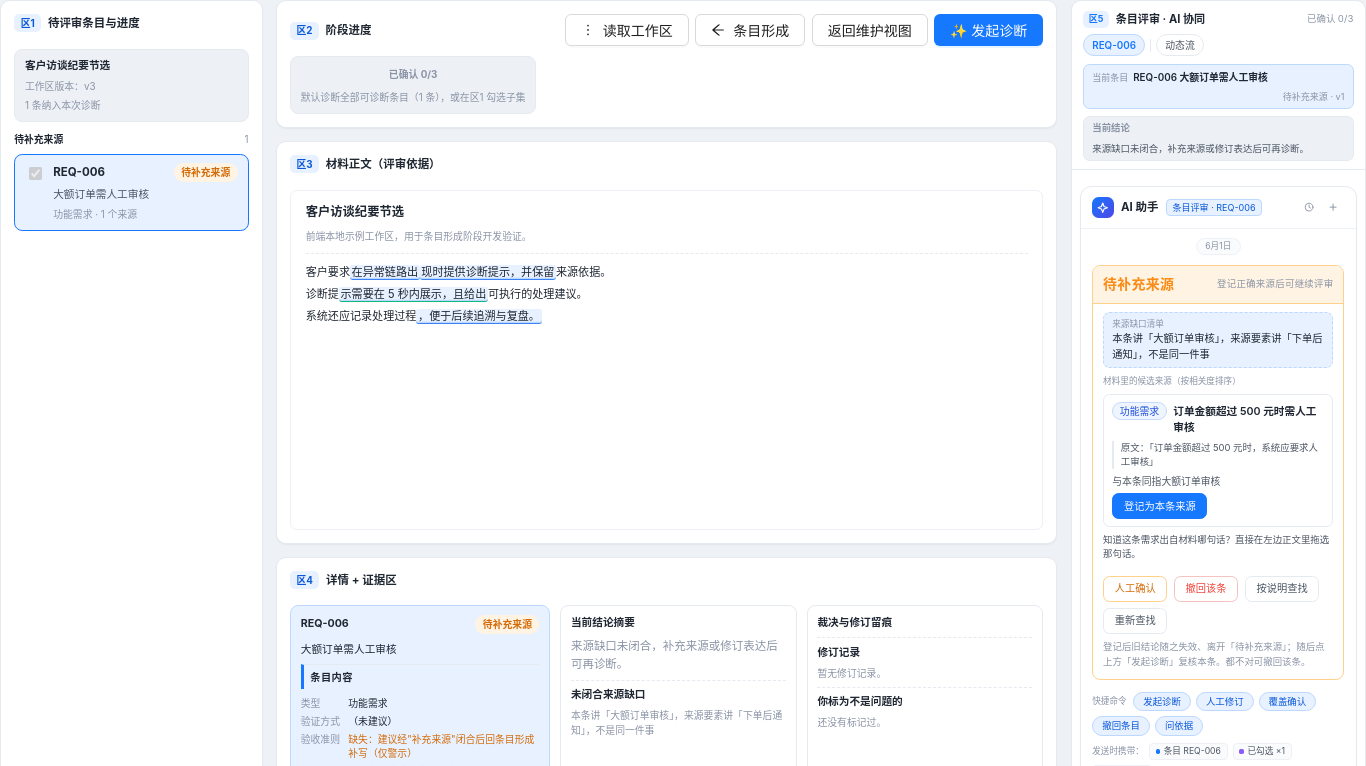
Test case: 补充来源出口卡（issue #30；ADR-0002 P1 无死胡同 / P3 说缺必说补） › 登记候选遇后端前置检查失败（status!=applied，如版本不一致）：如实报失败、不谎报成功（C8）
The image size is (1366, 766).
Click the button "登记为本条来源" at (1160, 506), box x1=1112 y1=493 x2=1207 y2=519
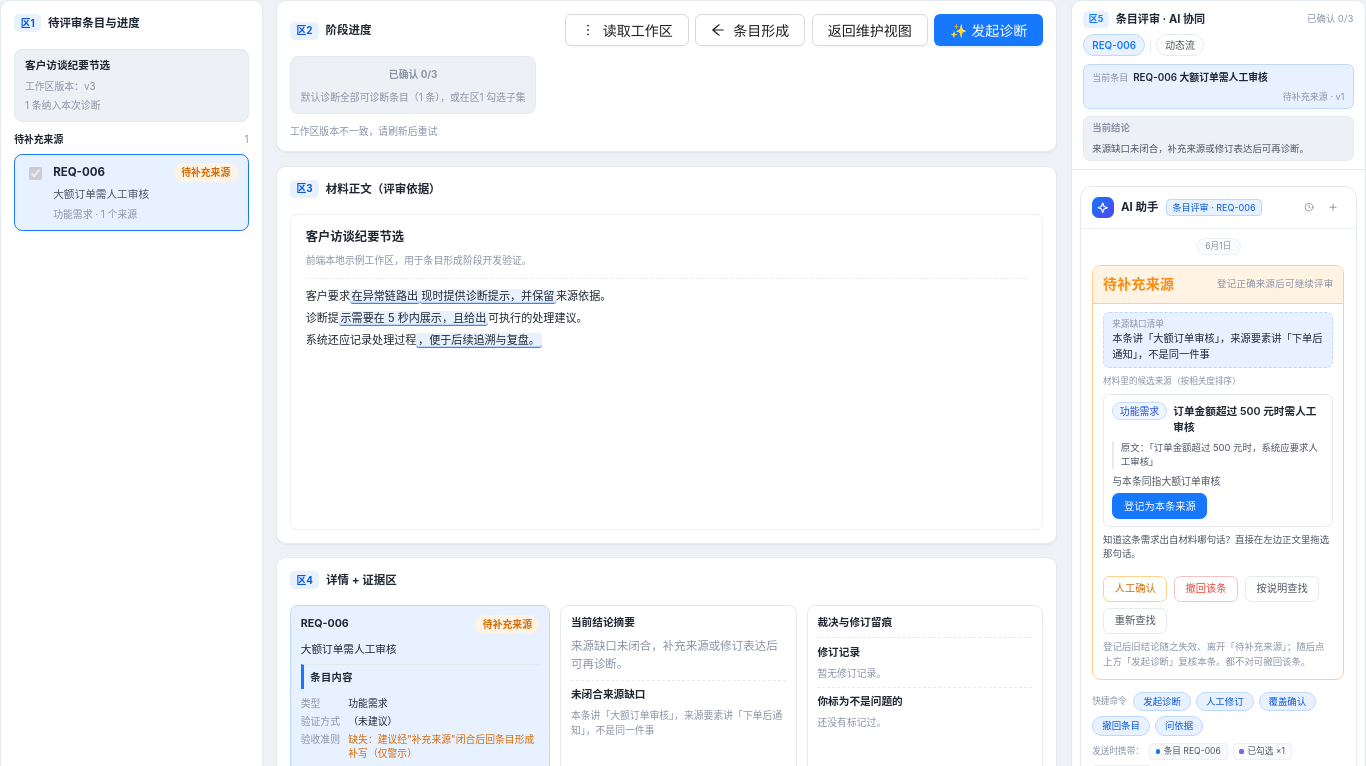
Now the text "工作区版本不一致，请刷新后重试" is shown, box x1=290 y1=125 x2=437 y2=137
